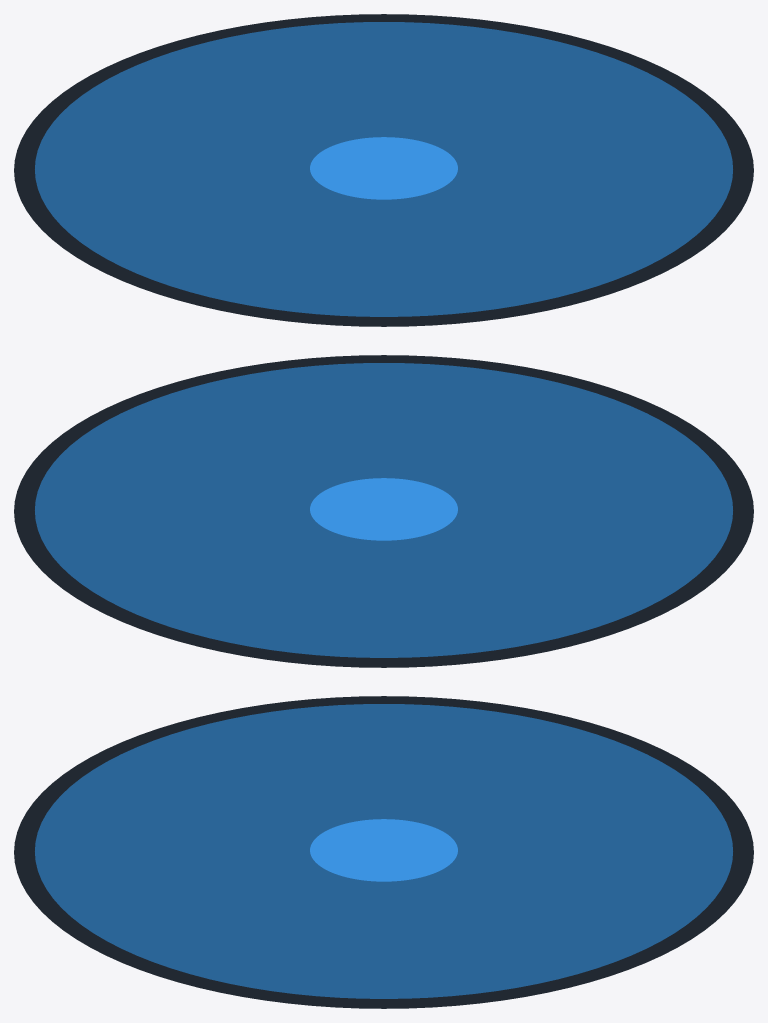
The picture shows the model from 3 angles, top to bottom: view 1: azimuth 30°, elevation 25°; view 2: azimuth 150°, elevation 25°; view 3: azimuth 270°, elevation 25°; orthographic projection.
Size of what is drawn, in the model's own units: 3.2 by 0.01 by 3.2.
Materials: 3 (3 with a texture image).
